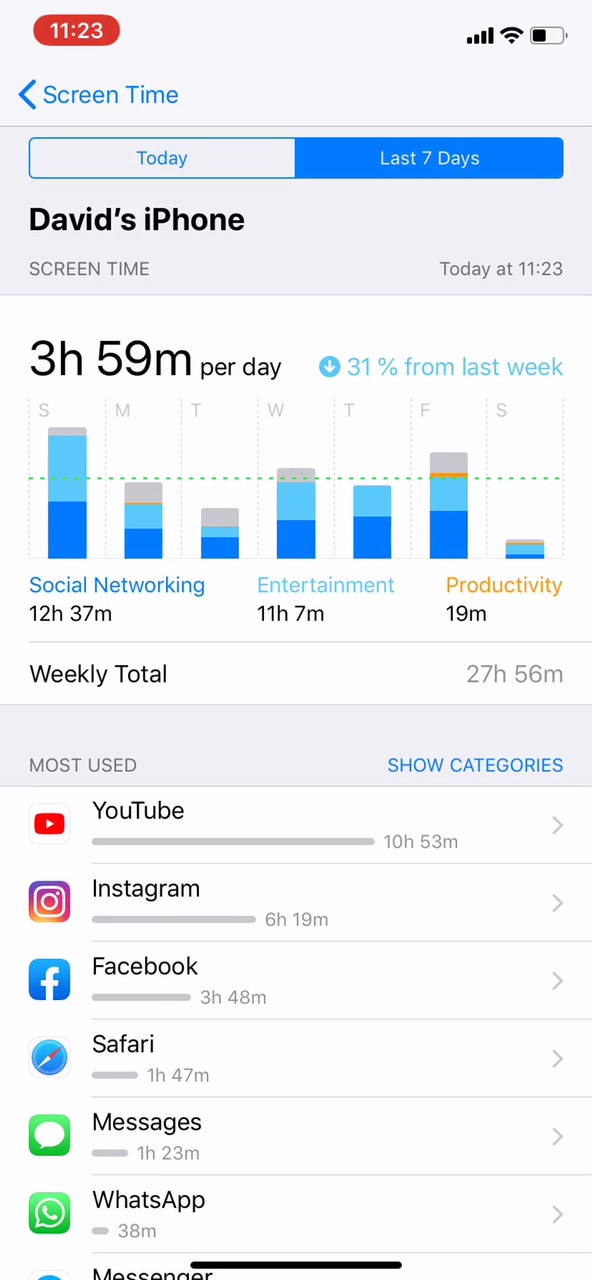use_over: (14, 569, 576, 689)
